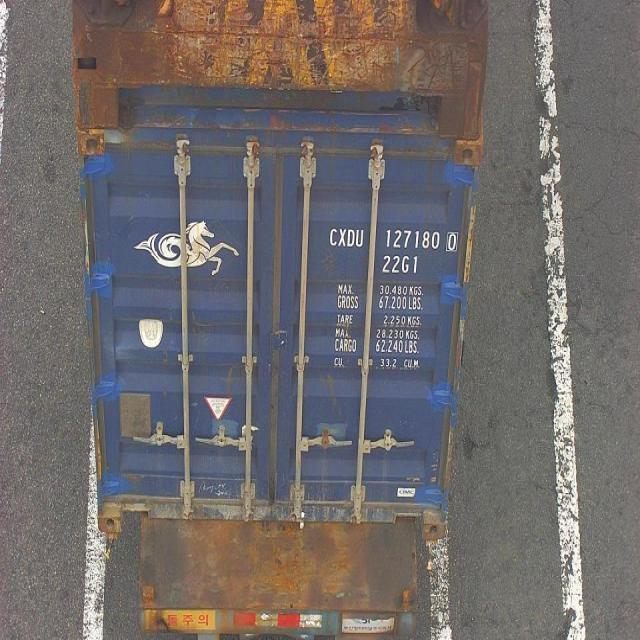ISO: (382, 255, 419, 275)
container_number: (330, 229, 458, 251)
